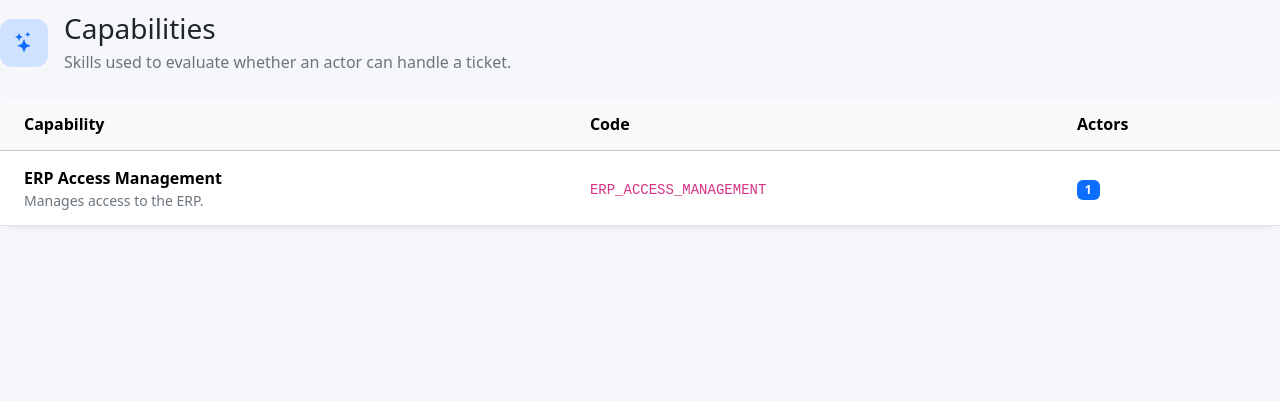
Test: opens a capability profile by clicking its row
Click the link with aria-label "View ERP Access Management's profile" at (640, 188), box [0,151,1279,226]
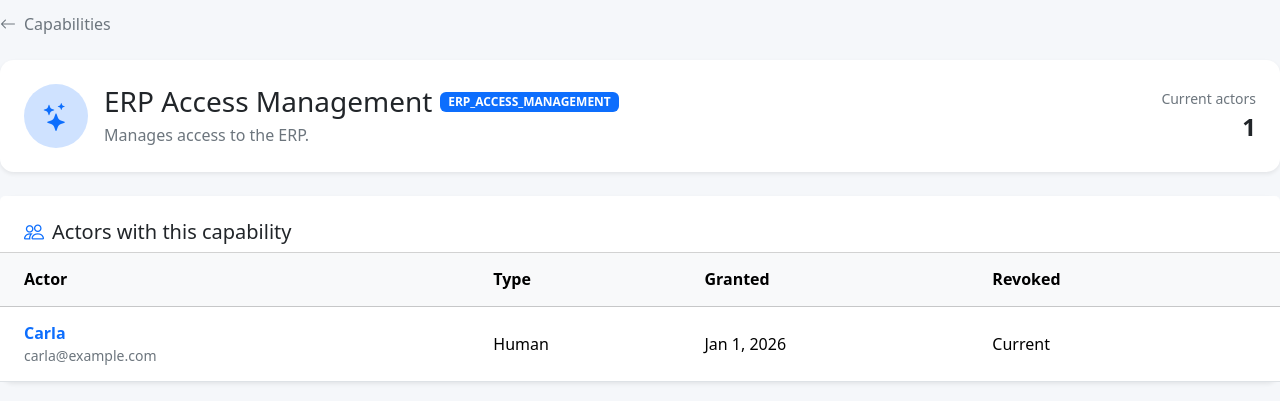
Expected: the heading "ERP Access Management" is shown, [104,85,432,119]
Expected: the link "Carla" is shown, [24,322,66,344]
